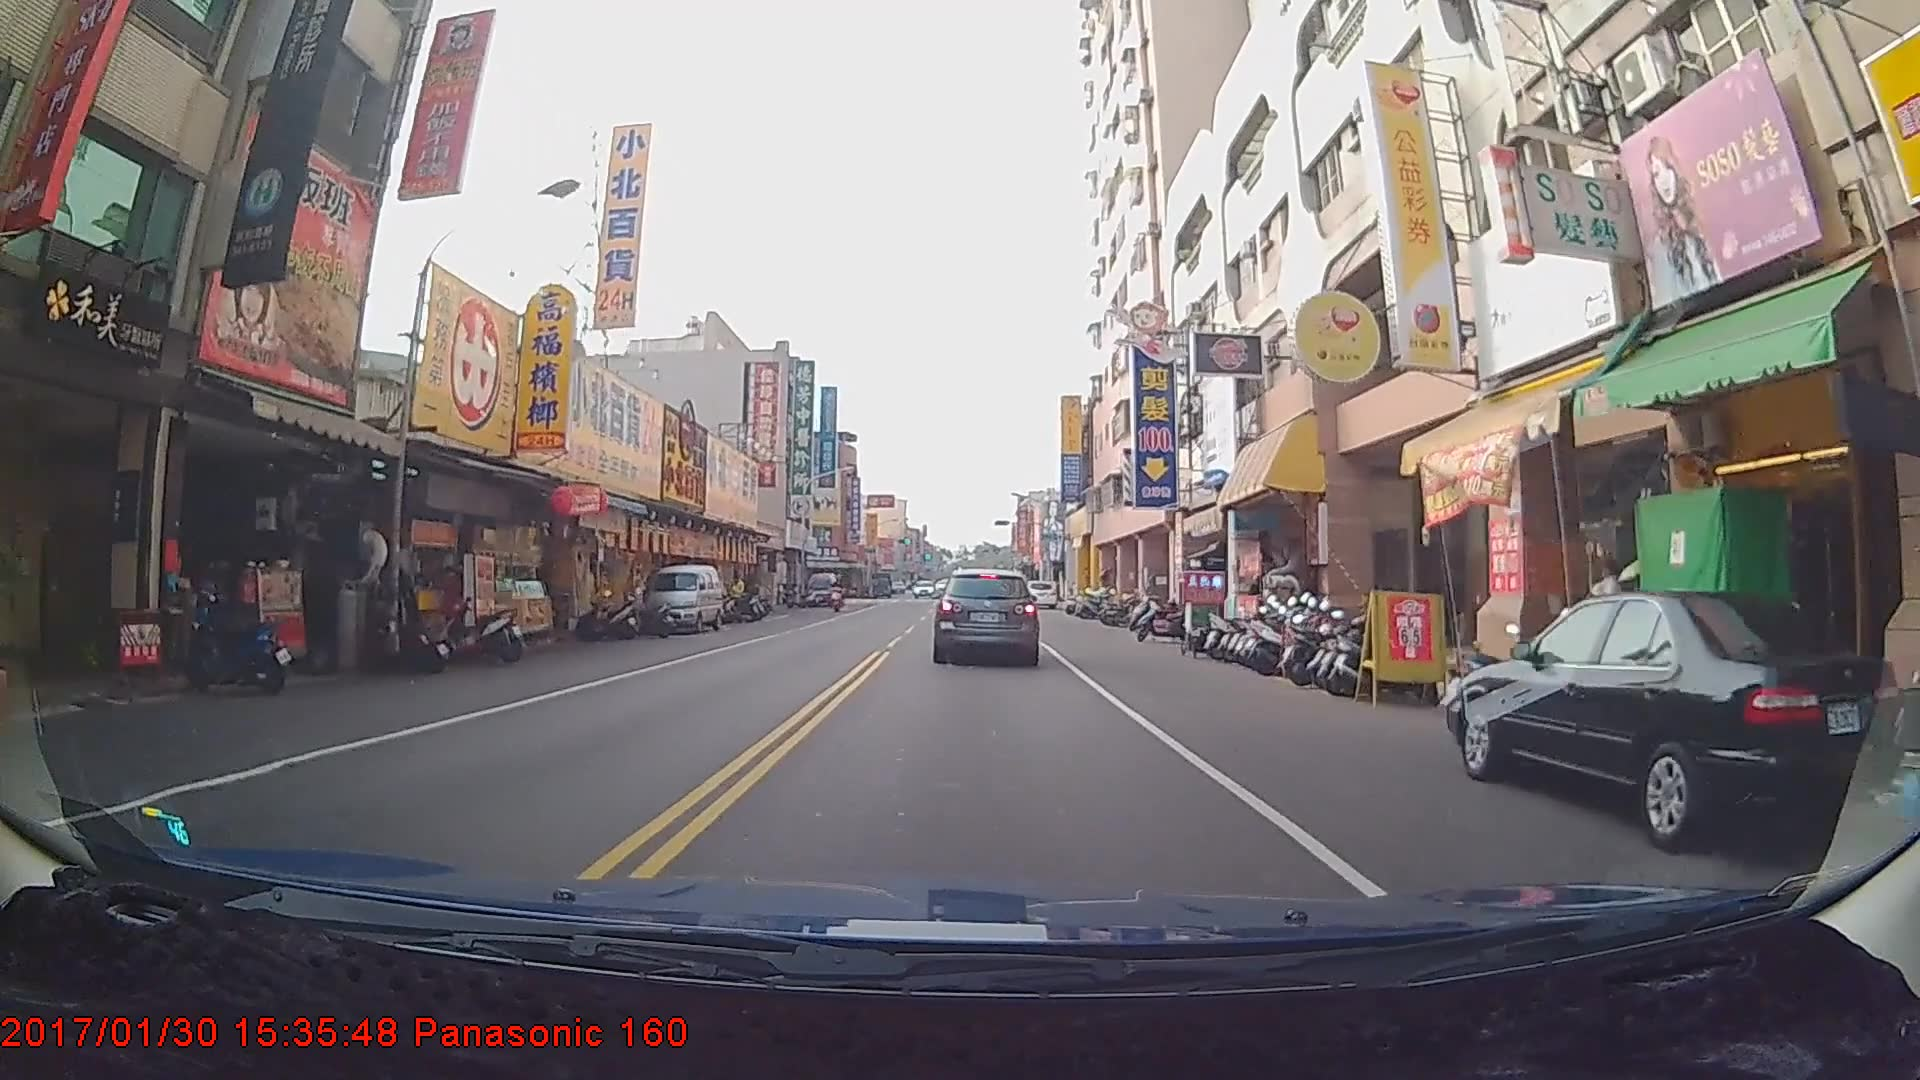pedestrian: (727, 568, 747, 623)
rider: (824, 570, 848, 613)
vehicle: (1443, 589, 1907, 854), (933, 566, 1040, 664), (640, 565, 722, 635), (804, 572, 841, 608), (1025, 580, 1057, 610)
